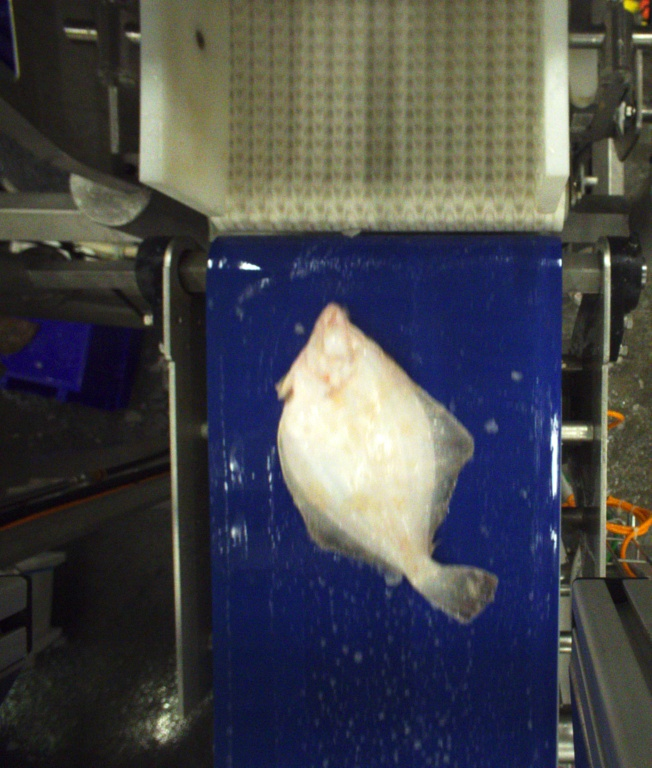PLE: (276, 302, 499, 628)
